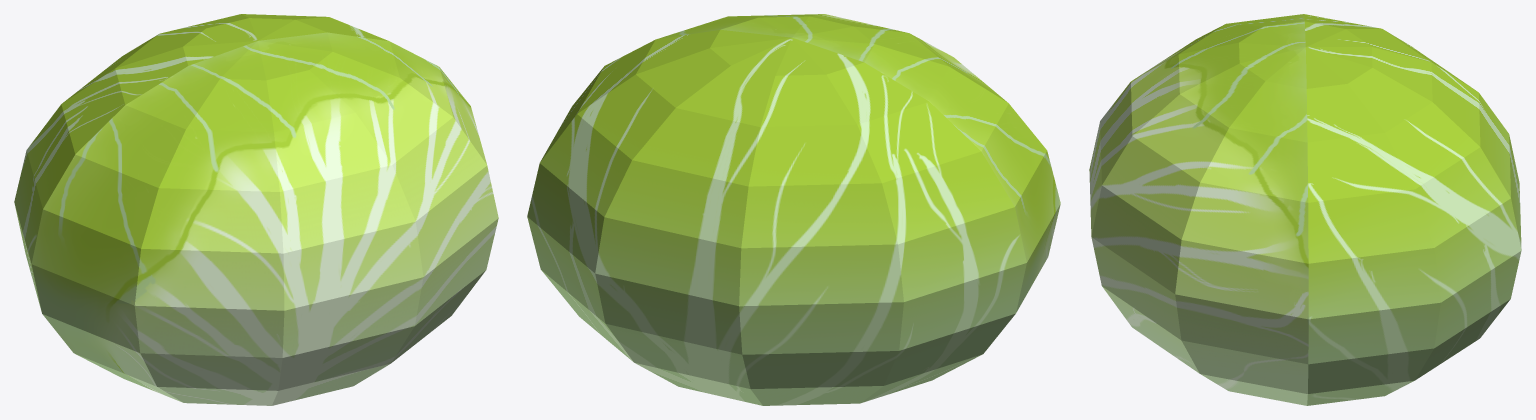
File: kyabetsu.fbx
3 views of the same model, side by side, from view 1: azimuth 30°, elevation 25°; view 2: azimuth 150°, elevation 25°; view 3: azimuth 270°, elevation 25° (orthographic). The views are drawn at different scales.
Parts seen in each view (by area): view 1: pSphere1; view 2: pSphere1; view 3: pSphere1.
Part boxes in pixels (x1=…): pSphere1: x1=14, y1=14, x2=498, y2=405; pSphere1: x1=527, y1=14, x2=1060, y2=405; pSphere1: x1=1089, y1=14, x2=1521, y2=405.
Size of the model in its own units: 1.98 by 1.41 by 1.68.
Materials: 1 (1 with a texture image).
